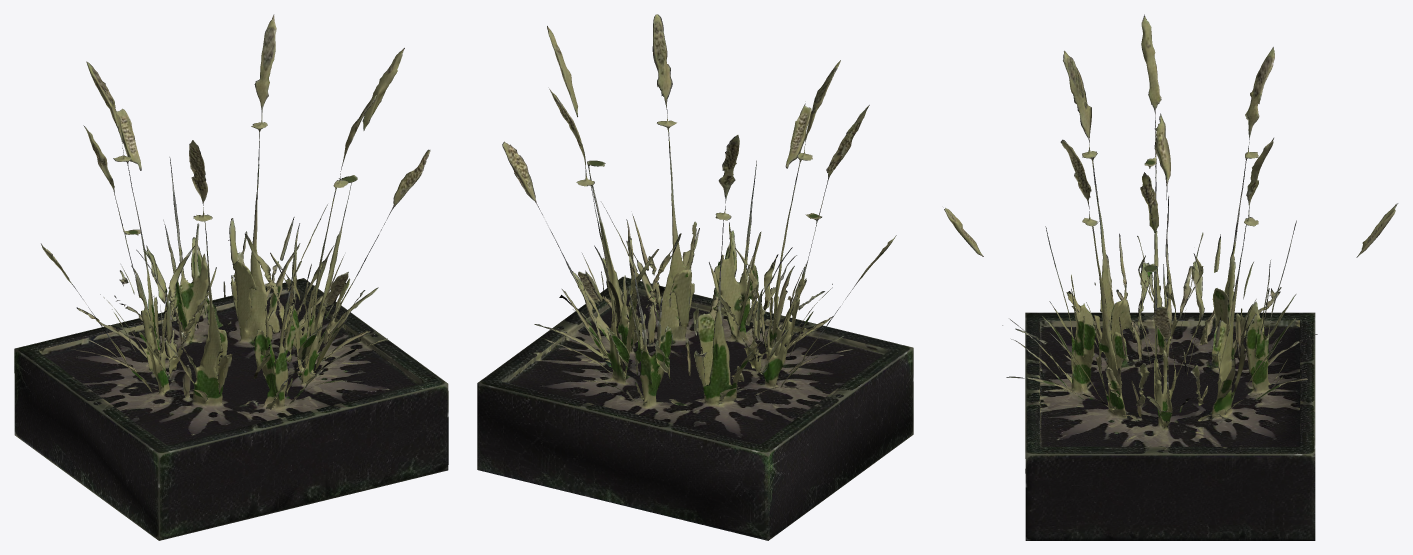
The model's file is grass_patch_tall.glb.
The picture shows the model from 3 angles, left to right: view 1: azimuth 30°, elevation 25°; view 2: azimuth 150°, elevation 25°; view 3: azimuth 270°, elevation 25°; orthographic projection.
Visible parts, largest first — view 1: model; view 2: model; view 3: model.
Boxes of the visible parts, x1,y1,x2,y2 form: model: [14, 14, 448, 540]; model: [477, 14, 913, 540]; model: [944, 14, 1398, 540].
Size of the model in its own units: 1.86 by 1.72 by 1.88.
Materials: 1 (1 with a texture image).
